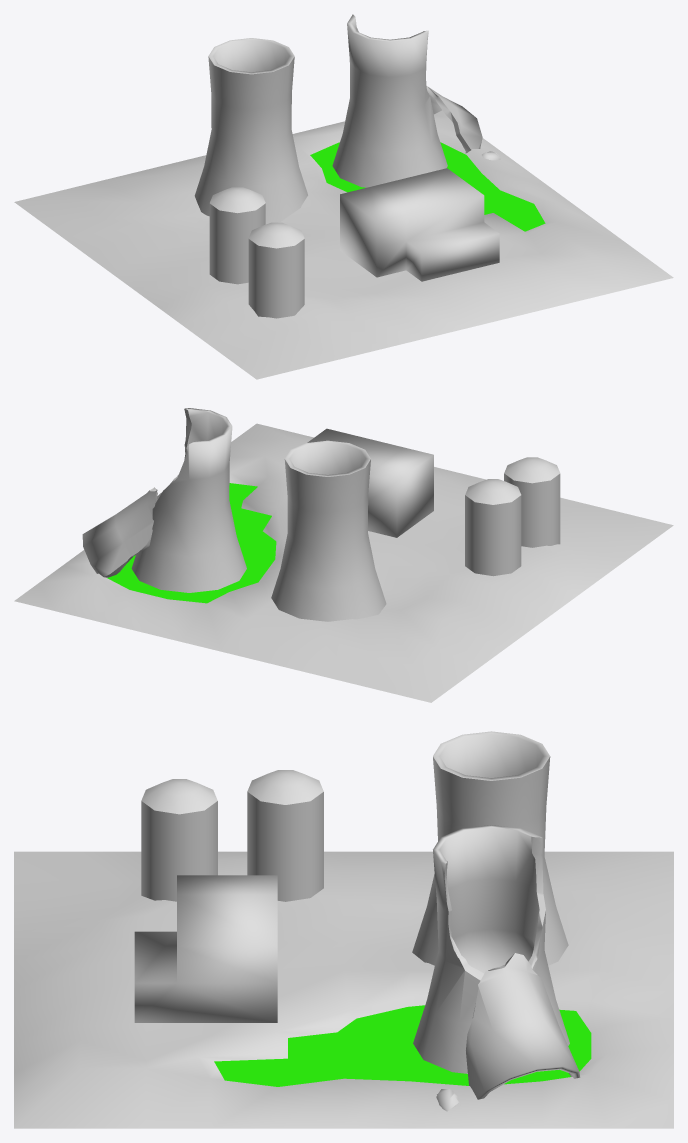
File: ExportedC4DFBXFile.fbx
The picture shows the model from 3 angles, top to bottom: view 1: azimuth 30°, elevation 25°; view 2: azimuth 150°, elevation 25°; view 3: azimuth 270°, elevation 25°; orthographic projection. The views are drawn at different scales.
Parts seen in each view (by area): view 1: NuclearPlantGround, Stack1, MainBuilding, Stack2Broken, HoldingTank2, HoldingTank1, Plane, Stack2Rubble; view 2: NuclearPlantGround, Stack1, Stack2Broken, MainBuilding, HoldingTank1, Plane, HoldingTank2, Stack2Rubble; view 3: NuclearPlantGround, Stack2Broken, MainBuilding, Stack1, Plane, Stack2Rubble, HoldingTank1, HoldingTank2.
Boxes of the visible parts, x1=… form: NuclearPlantGround: x1=14, y1=110, x2=673, y2=379; Stack1: x1=194, y1=38, x2=307, y2=224; MainBuilding: x1=340, y1=168, x2=499, y2=281; Stack2Broken: x1=332, y1=14, x2=447, y2=187; HoldingTank2: x1=248, y1=222, x2=304, y2=318; HoldingTank1: x1=209, y1=187, x2=265, y2=284; Plane: x1=310, y1=142, x2=545, y2=231; Stack2Rubble: x1=426, y1=85, x2=482, y2=153; NuclearPlantGround: x1=14, y1=423, x2=673, y2=702; Stack1: x1=271, y1=440, x2=386, y2=621; Stack2Broken: x1=131, y1=408, x2=246, y2=592; MainBuilding: x1=307, y1=428, x2=433, y2=537; HoldingTank1: x1=465, y1=479, x2=521, y2=576; Plane: x1=107, y1=483, x2=276, y2=603; HoldingTank2: x1=504, y1=457, x2=560, y2=547; Stack2Rubble: x1=82, y1=487, x2=157, y2=577; NuclearPlantGround: x1=14, y1=851, x2=673, y2=1128; Stack2Broken: x1=413, y1=825, x2=569, y2=1073; MainBuilding: x1=134, y1=875, x2=277, y2=1022; Stack1: x1=412, y1=731, x2=568, y2=965; Plane: x1=214, y1=1005, x2=591, y2=1086; Stack2Rubble: x1=466, y1=953, x2=580, y2=1099; HoldingTank1: x1=247, y1=770, x2=323, y2=901; HoldingTank2: x1=141, y1=779, x2=217, y2=901.
Size of the model in its own units: 594 by 209 by 598.
